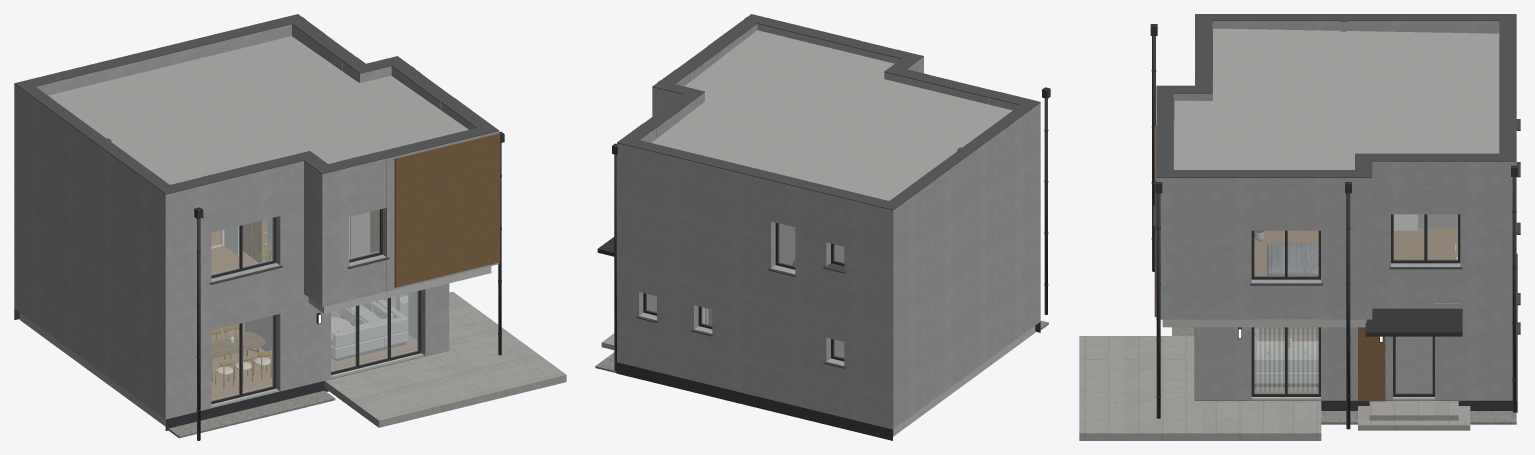
Rendered from house_stano_v2w.glb.
The picture shows the model from 3 angles, left to right: view 1: azimuth 30°, elevation 25°; view 2: azimuth 150°, elevation 25°; view 3: azimuth 270°, elevation 25°; orthographic projection. The views are drawn at different scales.
Visible parts, largest first — view 1: Shell, accent_clad_S, D1_S_1.09_HS_glass, curtain_sheer_S, D1_S_1.08_glass, W2_S_2.02_glass, W2_S_2.03_glass, D1_S_1.09_HS_frame, Nordic Harmony Wardrobe, sect_back_s, D1_S_1.08_frame, downpipe2 (+4 smaller); view 2: Shell, downpipe2, W2_N_2.06_stair_glass, downpipe0; view 3: Shell, D1_E_terrace_1.09_glass, curtain_sheer_E, W2_E_2.04_glass, W2_E_2.05_glass, canopy, accent_clad_E, downpipe3, downpipe0, downpipe1, sect_back_e, D1_E_terrace_1.09_frame (+8 smaller).
Part boxes in pixels (box(x1,y1,x2,y2)): Shell: box(14, 14, 566, 438); accent_clad_S: box(394, 133, 499, 287); D1_S_1.09_HS_glass: box(331, 291, 418, 371); curtain_sheer_S: box(331, 291, 416, 367); D1_S_1.08_glass: box(211, 316, 273, 401); W2_S_2.02_glass: box(211, 218, 273, 275); W2_S_2.03_glass: box(349, 210, 379, 259); D1_S_1.09_HS_frame: box(331, 290, 421, 375); Nordic Harmony Wardrobe: box(242, 218, 271, 262); sect_back_s: box(333, 317, 403, 347); D1_S_1.08_frame: box(211, 315, 276, 404); downpipe2: box(197, 208, 200, 440); Shell: box(595, 14, 1048, 440); downpipe2: box(1044, 88, 1047, 314); W2_N_2.06_stair_glass: box(778, 223, 794, 266); downpipe0: box(614, 144, 616, 370); Shell: box(1079, 14, 1517, 440); D1_E_terrace_1.09_glass: box(1254, 327, 1318, 393); curtain_sheer_E: box(1254, 327, 1318, 390); W2_E_2.04_glass: box(1254, 231, 1318, 276); W2_E_2.05_glass: box(1394, 214, 1457, 259); canopy: box(1365, 308, 1462, 336); accent_clad_E: box(1358, 327, 1385, 401); downpipe3: box(1346, 182, 1350, 429); downpipe0: box(1512, 165, 1516, 412); downpipe1: box(1156, 182, 1160, 418); sect_back_e: box(1254, 356, 1318, 371); D1_E_terrace_1.09_frame: box(1251, 327, 1320, 396).
Size of what is drawn, in the model's own units: 10.98 by 7.18 by 11.4.
Materials: 105 (51 with a texture image).
